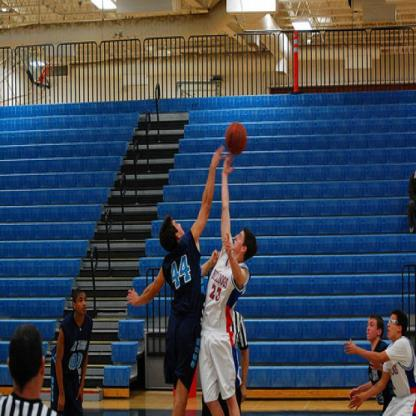basketball: (224, 123, 247, 155)
rim: (40, 60, 55, 76)
